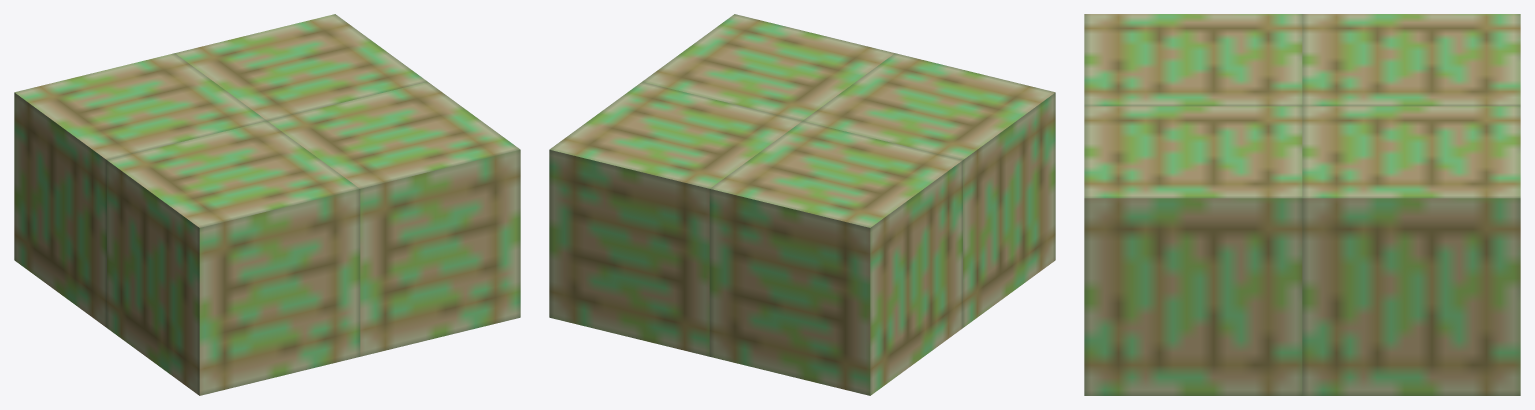
Rendered from half_block.obj.
The picture shows the model from 3 angles, left to right: view 1: azimuth 30°, elevation 25°; view 2: azimuth 150°, elevation 25°; view 3: azimuth 270°, elevation 25°; orthographic projection. The views are drawn at different scales.
Parts seen in each view (by area): view 1: Default; view 2: Default; view 3: Default.
Part boxes in pixels (x1,y1,x2,y2): Default: (14, 14, 520, 395); Default: (549, 14, 1055, 395); Default: (1084, 14, 1520, 395).
Size of the model in its own units: 6 by 3 by 6.
